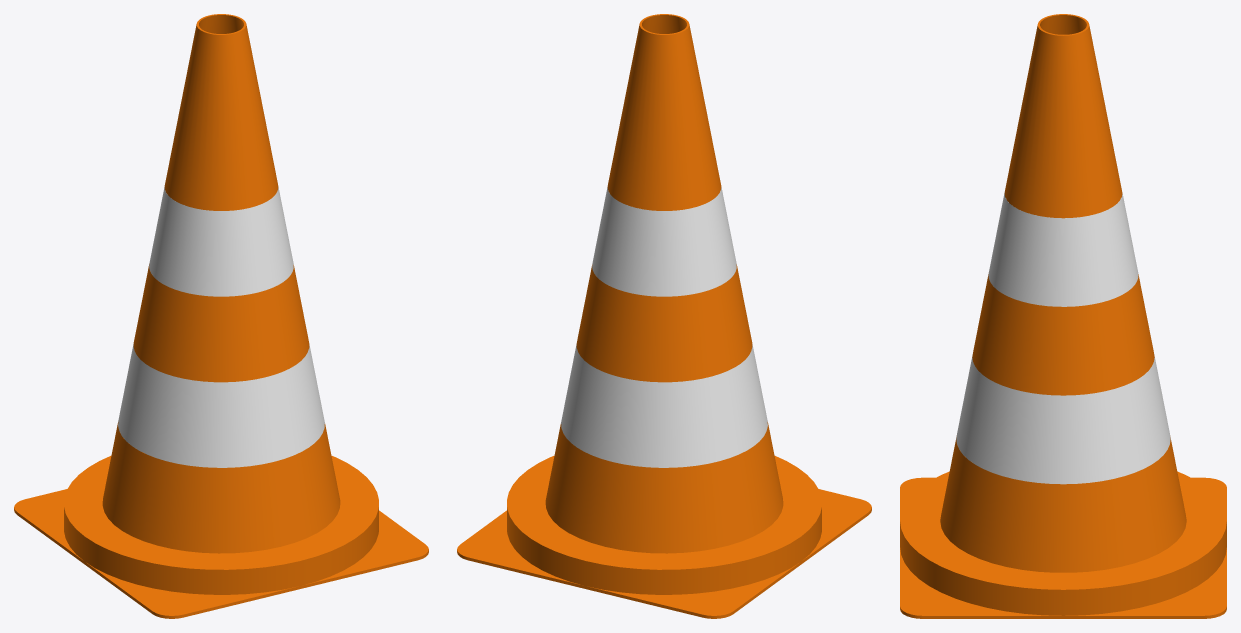
File: bigorangeCone.fbx
3 renders of one model, left to right at view 1: azimuth 30°, elevation 25°; view 2: azimuth 150°, elevation 25°; view 3: azimuth 270°, elevation 25°, orthographic. The views are drawn at different scales.
Visible parts, largest first — view 1: color, color_2; view 2: color, color_2; view 3: color, color_2.
Part boxes in pixels (bbox=[...]): color: bbox=[14, 14, 428, 618]; color_2: bbox=[118, 187, 324, 467]; color: bbox=[457, 14, 871, 618]; color_2: bbox=[561, 187, 767, 467]; color: bbox=[900, 14, 1226, 618]; color_2: bbox=[956, 193, 1170, 484].
Bounding box in the file's own units: 28.5 × 50.5 × 28.5.
